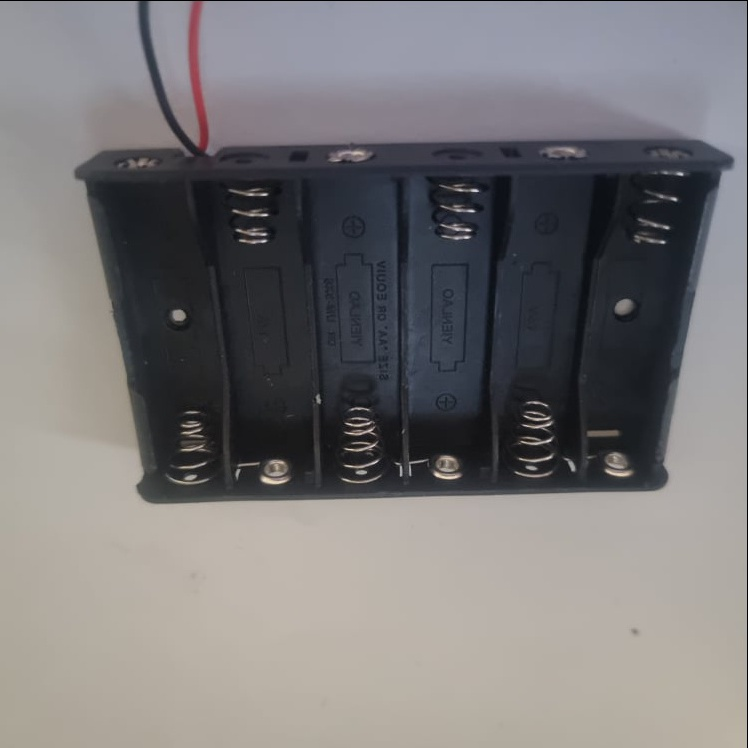BATTERY BOX: (71, 133, 734, 503)
